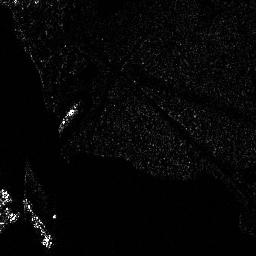ship: (19, 200, 55, 249), (58, 100, 80, 135)
